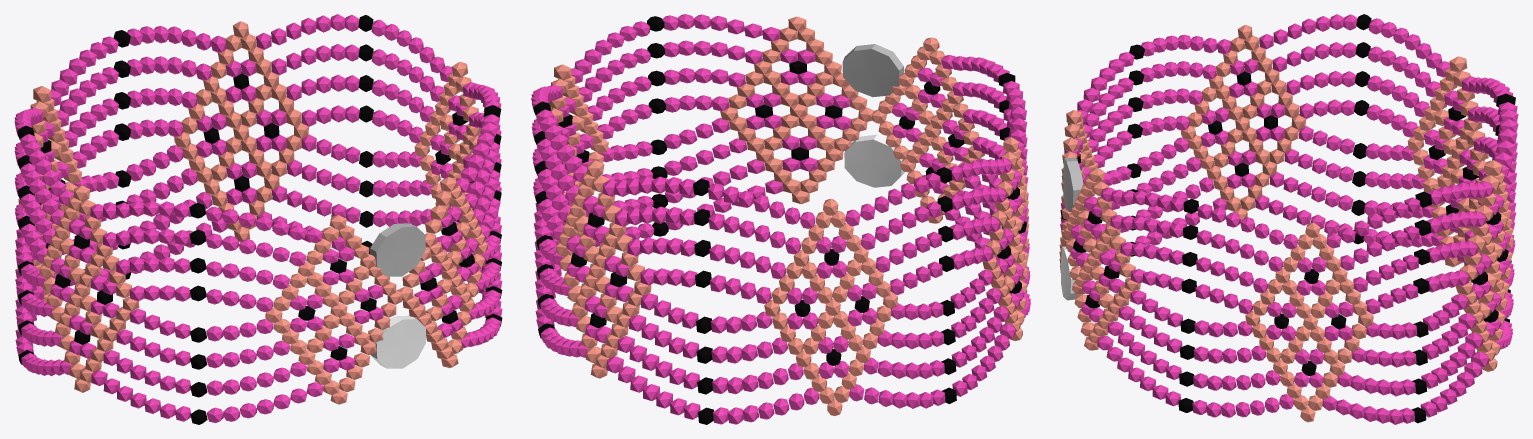
The model's file is bracelet_elephant_ears_2_button.glb.
3 views of the same model, side by side, from view 1: azimuth 30°, elevation 25°; view 2: azimuth 150°, elevation 25°; view 3: azimuth 270°, elevation 25° (orthographic). The views are drawn at different scales.
Visible parts, largest first — view 1: polySurface777; view 2: polySurface777; view 3: polySurface777.
Part boxes in pixels (<box>): polySurface777: <box>14,14,502,424</box>; polySurface777: <box>531,14,1030,424</box>; polySurface777: <box>1059,14,1518,424</box>.
Bounding box in the file's own units: 18.7 × 10.16 × 17.62.
